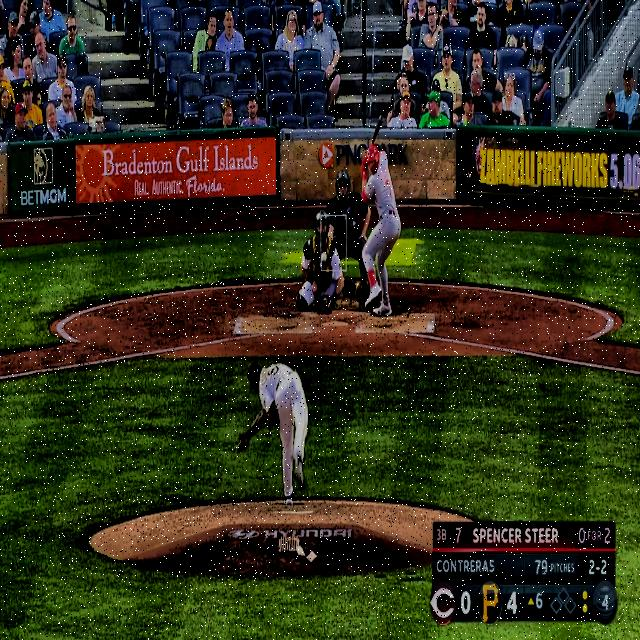baseball: (320, 250, 328, 264)
